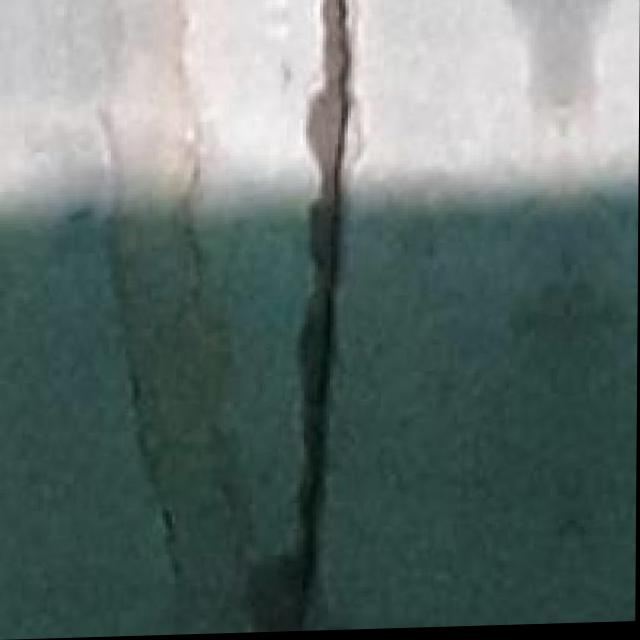Crack: (191, 0, 426, 629)
